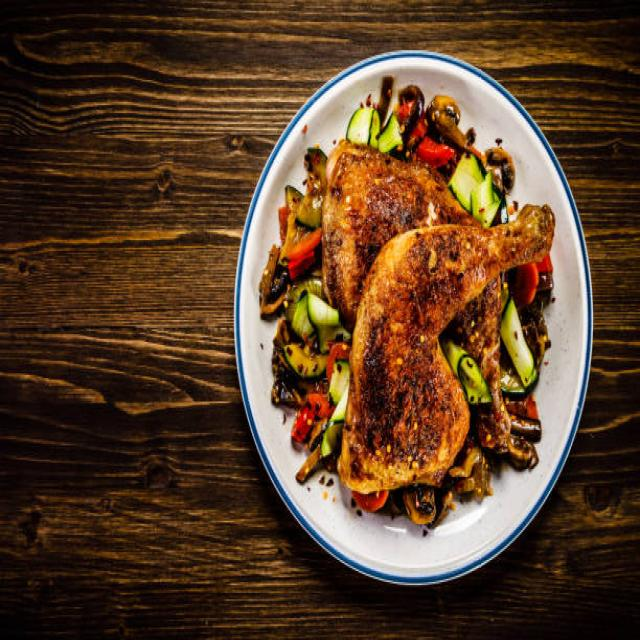Frango: (292, 135, 557, 496)
